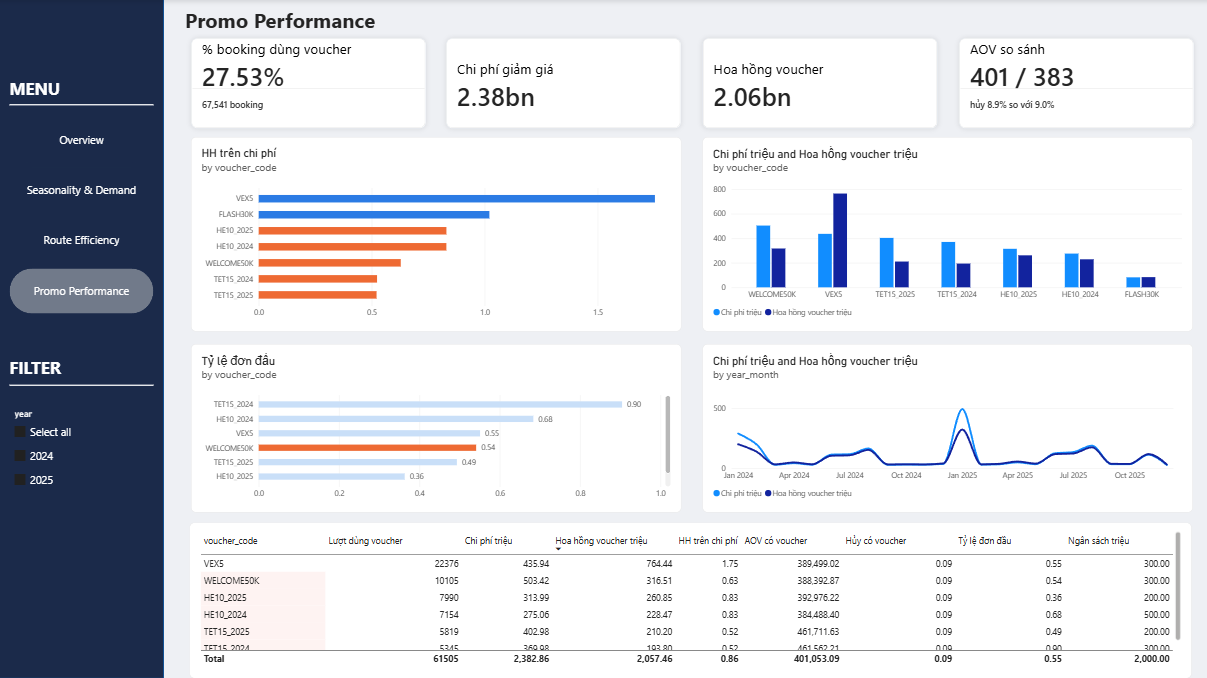

Layout of this report page (visuals, bound fields, positions):
{"tool":"powerbi","page":{"name":"Promo Performance","canvas":[1920,1080],"ordinal":3},"visuals":[{"type":"shape","box":[0,0,263.5,1080],"z":0},{"type":"textbox","box":[295,12.7,437.9,45.2],"z":1000},{"type":"cardVisual","fields":{"Data":["Measure table.% booking dùng voucher"]},"box":[305.1,62.6,374,144],"z":2000},{"type":"cardVisual","fields":{"Data":["Measure table.Chi phí giảm giá"]},"box":[710.5,62.6,374,144],"z":3000},{"type":"cardVisual","fields":{"Data":["Measure table.Hoa hồng voucher"]},"box":[1119.5,62.6,374,144],"z":4000},{"type":"cardVisual","fields":{"Data":["Measure table.AOV so sánh"]},"box":[1526.6,62.6,374,144],"z":5000},{"type":"clusteredBarChart","fields":{"Category":["dim_voucher.voucher_code"],"Y":["Measure table.HH trên chi phí"]},"box":[305.5,220.4,780,309.5],"z":6000},{"type":"clusteredColumnChart","fields":{"Category":["dim_voucher.voucher_code"],"Y":["Measure table.Chi phí triệu","Measure table.Hoa hồng voucher triệu"]},"box":[1119.8,220.4,780,309.5],"z":7000},{"type":"clusteredBarChart","fields":{"Category":["dim_voucher.voucher_code"],"Y":["Measure table.Tỷ lệ đơn đầu"]},"box":[305.5,548,780,267.8],"z":8000},{"type":"lineChart","fields":{"Category":["dim_date.year_month"],"Y":["Measure table.Chi phí triệu","Measure table.Hoa hồng voucher triệu"]},"box":[1119.8,548,780,267.8],"z":9000},{"type":"tableEx","fields":{"Values":["dim_voucher.voucher_code","Measure table.Lượt dùng voucher","Measure table.Chi phí triệu","Measure table.Hoa hồng voucher triệu","Measure table.HH trên chi phí","Measure table.AOV có voucher","Measure table.Hủy có voucher","Measure table.Tỷ lệ đơn đầu","Measure table.Ngân sách triệu"]},"box":[304,832.4,1594.3,247.9],"z":10000},{"type":"pageNavigator","box":[40.6,205.2,182.8,394.5],"z":11000},{"type":"image","box":[19.1,35.8,226.7,121.7],"z":11001}]}

Visuals, with their boxes on the page's 1920x1080 design canvas (x1, y1, x2, y2). These are canvas units, not pixel positions in the 1207x678 screenshot, which may show the page scaled, cropped or inside an application window:
shape: 0/0/264/1080
textbox: 295/13/733/58
cardVisual - Measure table.% booking dùng voucher: 305/63/679/207
cardVisual - Measure table.Chi phí giảm giá: 710/63/1084/207
cardVisual - Measure table.Hoa hồng voucher: 1120/63/1494/207
cardVisual - Measure table.AOV so sánh: 1527/63/1901/207
clusteredBarChart - dim_voucher.voucher_code x Measure table.HH trên chi phí: 306/220/1086/530
clusteredColumnChart - dim_voucher.voucher_code x Measure table.Chi phí triệu: 1120/220/1900/530
clusteredBarChart - dim_voucher.voucher_code x Measure table.Tỷ lệ đơn đầu: 306/548/1086/816
lineChart - dim_date.year_month x Measure table.Chi phí triệu: 1120/548/1900/816
tableEx - dim_voucher.voucher_code x Measure table.Lượt dùng voucher: 304/832/1898/1080
pageNavigator: 41/205/223/600
image: 19/36/246/158
